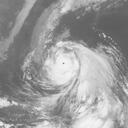cyclone: (37, 41, 113, 109)
